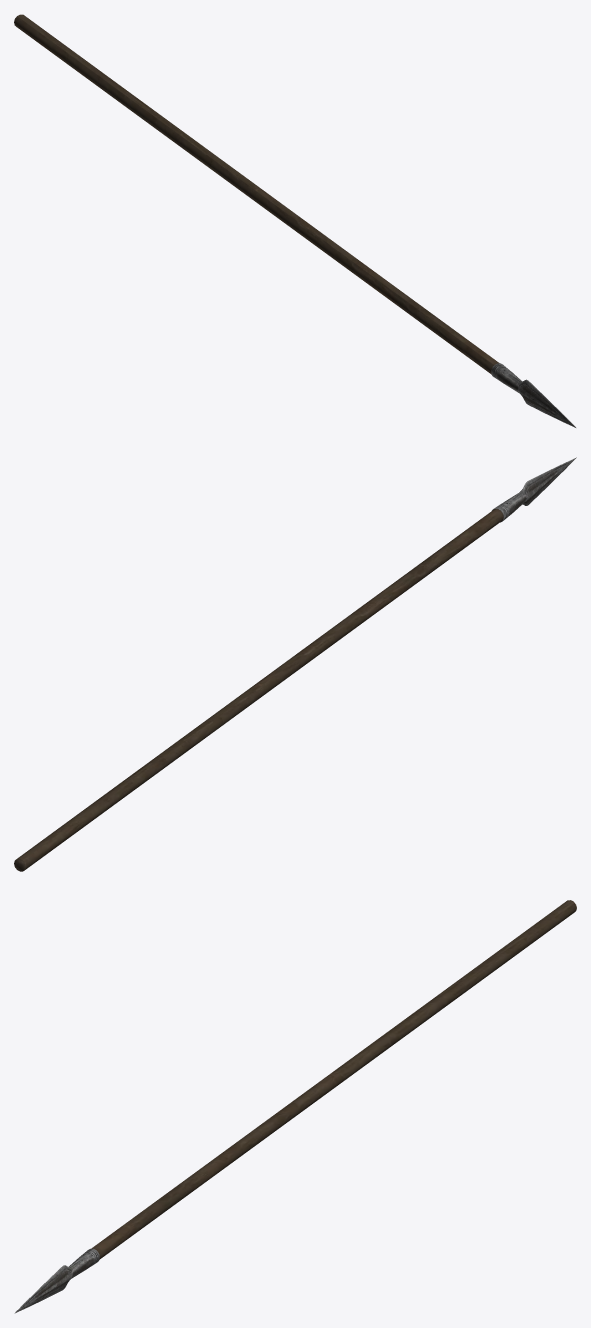
File: spear.glb
3 views of the same model, one above another, from view 1: azimuth 30°, elevation 25°; view 2: azimuth 150°, elevation 25°; view 3: azimuth 330°, elevation 25° (orthographic).
Visible parts, largest first — view 1: spear; view 2: spear; view 3: spear.
Boxes of the visible parts, <box> form: spear: <box>14,14,575,427</box>; spear: <box>14,457,576,871</box>; spear: <box>14,900,576,1313</box>.
Size of the model in its own units: 0.03 by 0.0526 by 2.2.
Materials: 1 (1 with a texture image).
